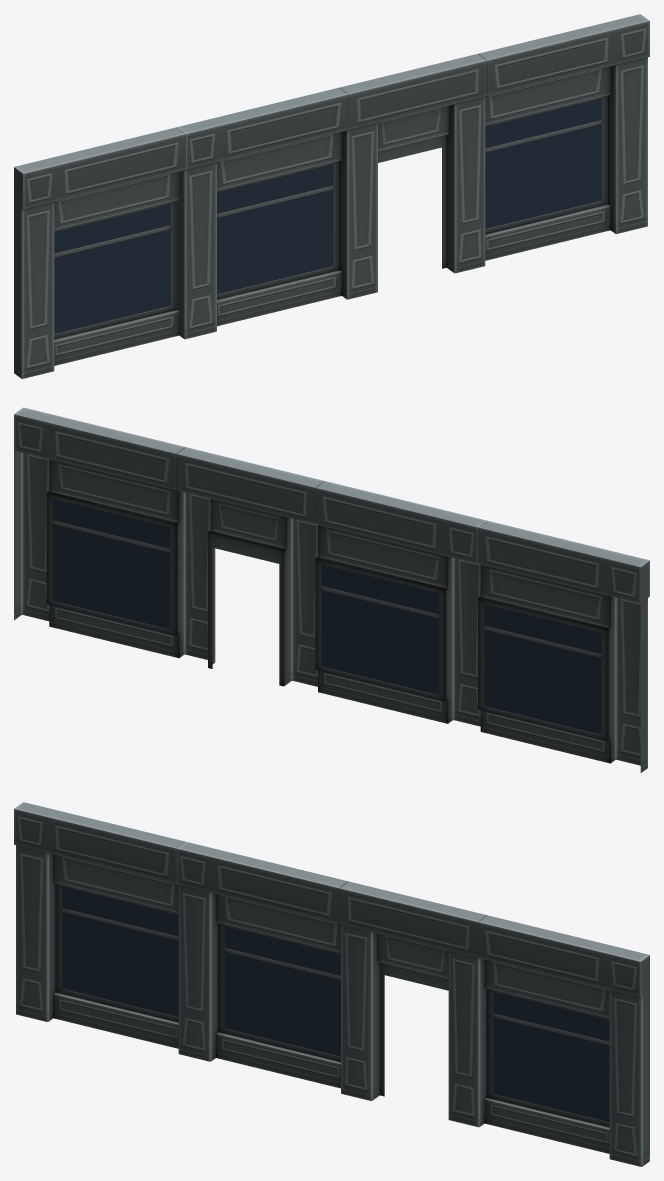
The model's file is StreetStoreFront01_2.FBX.
The picture shows the model from 3 angles, top to bottom: view 1: azimuth 30°, elevation 25°; view 2: azimuth 150°, elevation 25°; view 3: azimuth 330°, elevation 25°; orthographic projection.
Visible parts, largest first — view 1: StreetStoreFront01_2; view 2: StreetStoreFront01_2; view 3: StreetStoreFront01_2.
Boxes of the visible parts, x1,y1,x2,y2 form: StreetStoreFront01_2: [14, 14, 649, 378]; StreetStoreFront01_2: [14, 407, 649, 772]; StreetStoreFront01_2: [14, 802, 649, 1166].
Size of what is drawn, in the model's own units: 13.51 by 4.25 by 0.35.
